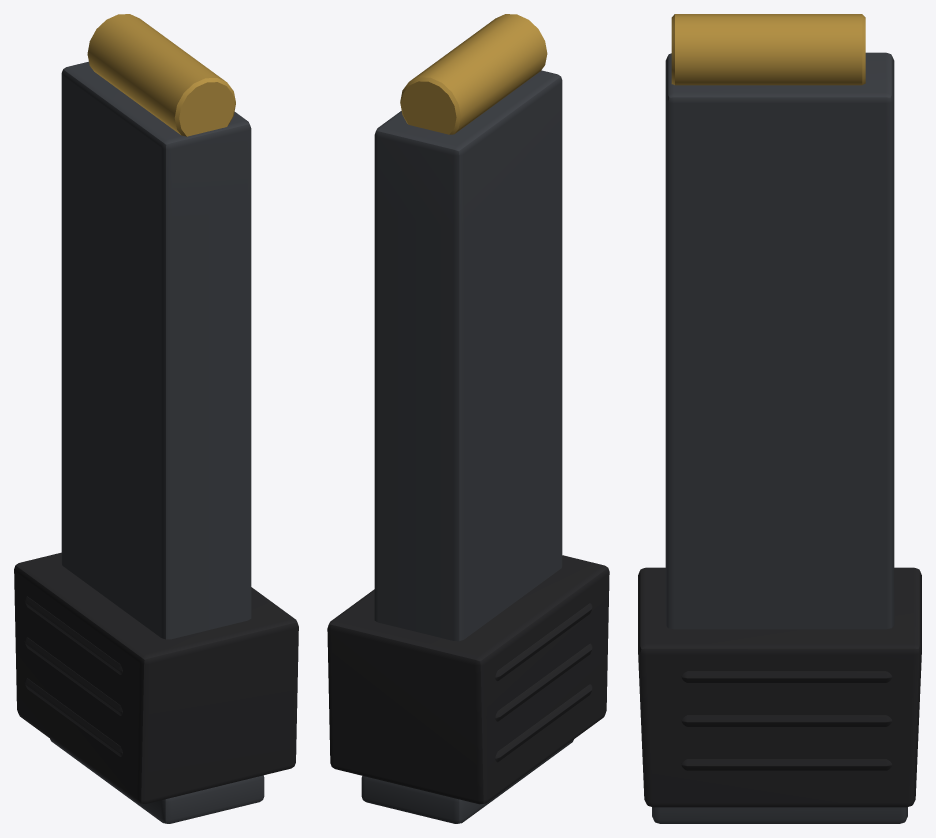
File: mod_w45_extended_mag.glb
The picture shows the model from 3 angles, left to right: view 1: azimuth 30°, elevation 25°; view 2: azimuth 150°, elevation 25°; view 3: azimuth 270°, elevation 25°; orthographic projection. The views are drawn at different scales.
Parts seen in each view (by area): view 1: Magazine, MagazineSleeve, MagazineRound; view 2: Magazine, MagazineSleeve, MagazineRound; view 3: Magazine, MagazineSleeve, MagazineRound.
Boxes of the visible parts, x1,y1,x2,y2 form: Magazine: [50, 61, 264, 823]; MagazineSleeve: [14, 552, 298, 803]; MagazineRound: [87, 14, 235, 136]; Magazine: [361, 70, 573, 823]; MagazineSleeve: [327, 555, 609, 804]; MagazineRound: [400, 14, 547, 134]; Magazine: [652, 52, 907, 823]; MagazineSleeve: [638, 567, 921, 807]; MagazineRound: [671, 14, 865, 85].
Bounding box in the file's own units: 0.0292 × 0.1248 × 0.041.
